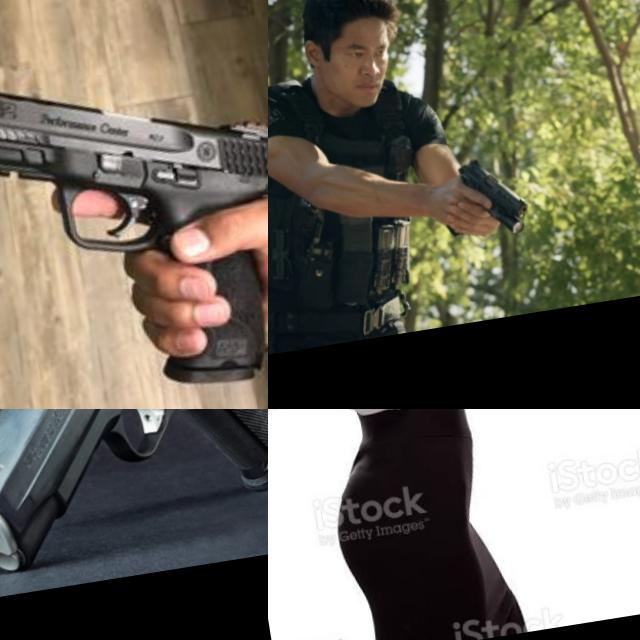handgun: (0, 8, 268, 409), (0, 409, 268, 614), (454, 149, 534, 246), (408, 409, 486, 487)
